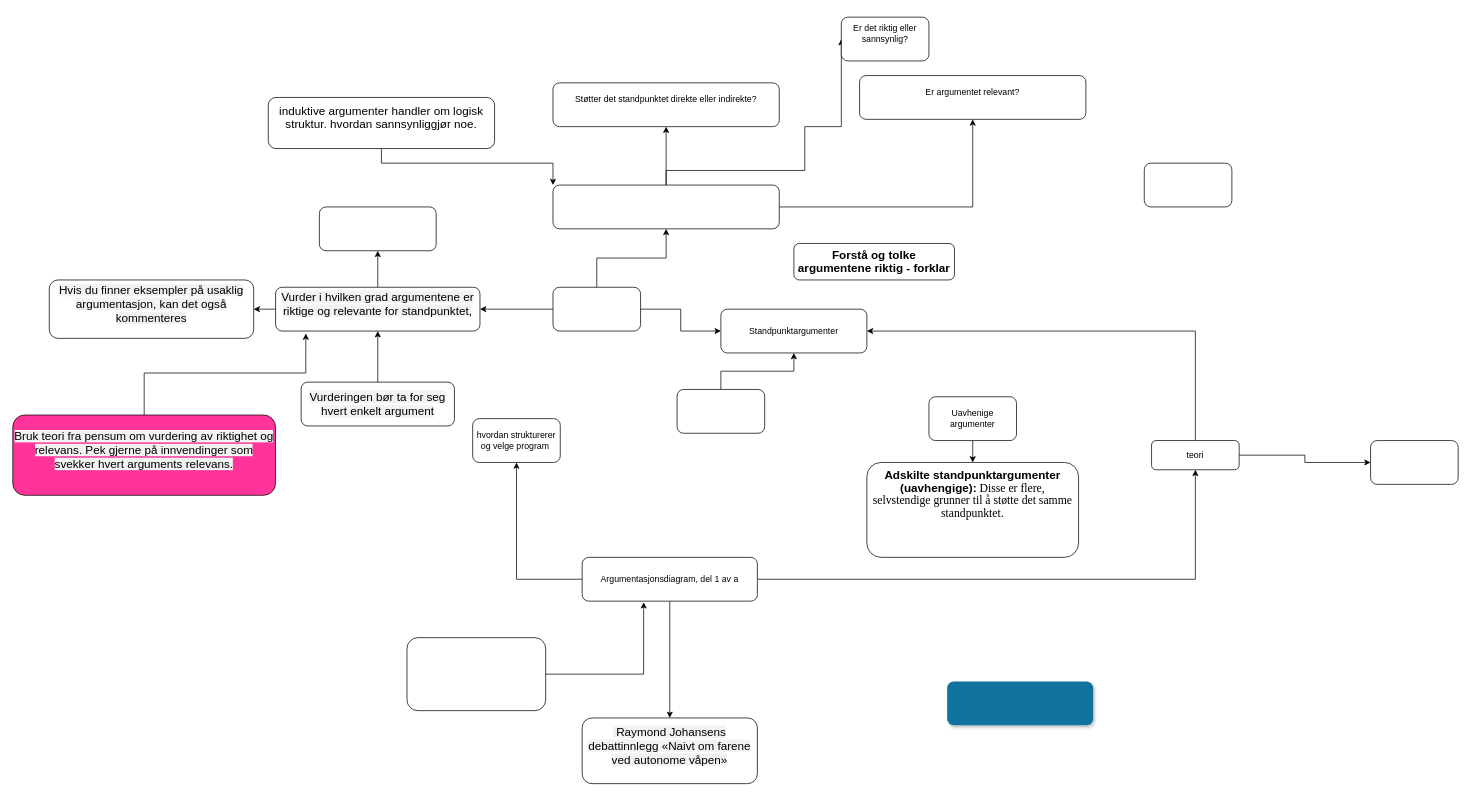
The diagram is 1471 pixels wide and 800 high, and some of its shapes have lost their labels. Here are the shapes that lost their labels. From the top down, the centre of each, then its label:
At pixel 1188 184: "implisitt vs eksplisitt".
At pixel 665 206: "Vurderingen skal utelukkende handle om argumentasjonens logiske funksjon.".
At pixel 377 228: "Tenk! del 1, kap. 3.".
At pixel 596 309: "velg 2".
At pixel 720 411: "Sammensatte argumenter".
At pixel 1414 462: "implisitte og eksplisitte påstander".
At pixel 476 674: "Gi en kort begrunnelse av valgene du har tatt i analysen.".
At pixel 1020 704: "oppgave a".
